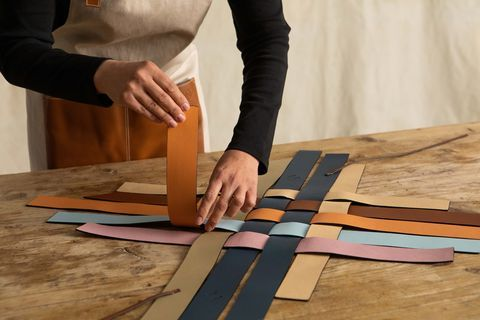cuero: (27, 78, 479, 320)
